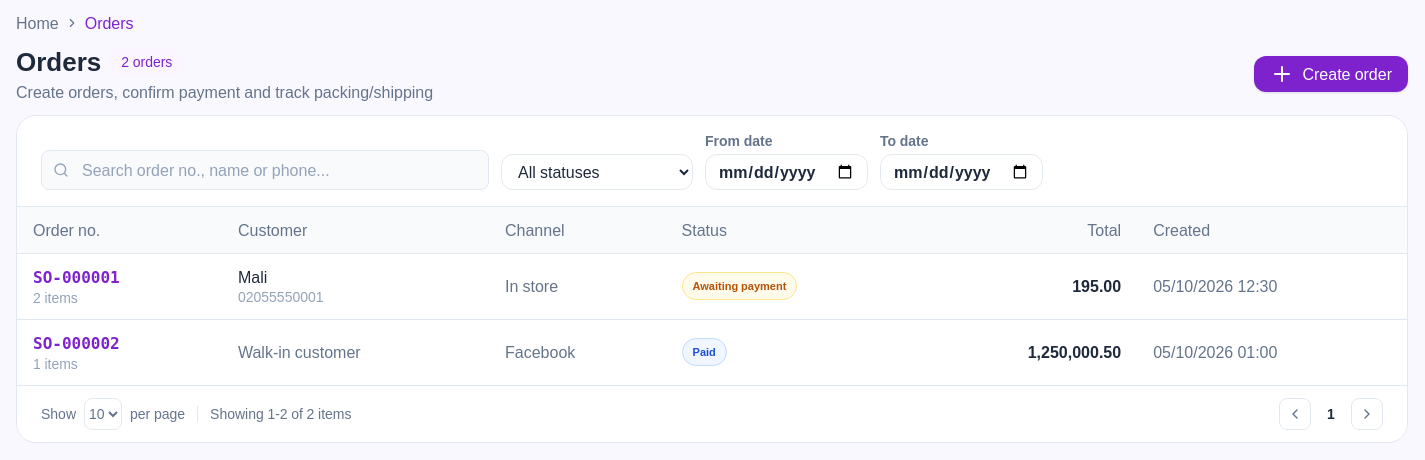
OrderList › ປີ 5 ຫຼັກ ຖືວ່າຊ່ວງວັນທີບໍ່ຖືກຕ້ອງ ແລະ ບໍ່ສົ່ງ request
The width and height of the screenshot is (1425, 460).
Check: the row with test id "row-order-o1" is shown, box 17,253 -> 1407,319
Type "12026-10-01" into the date field labelled "From date" at (786, 172), box 705,154 -> 868,190
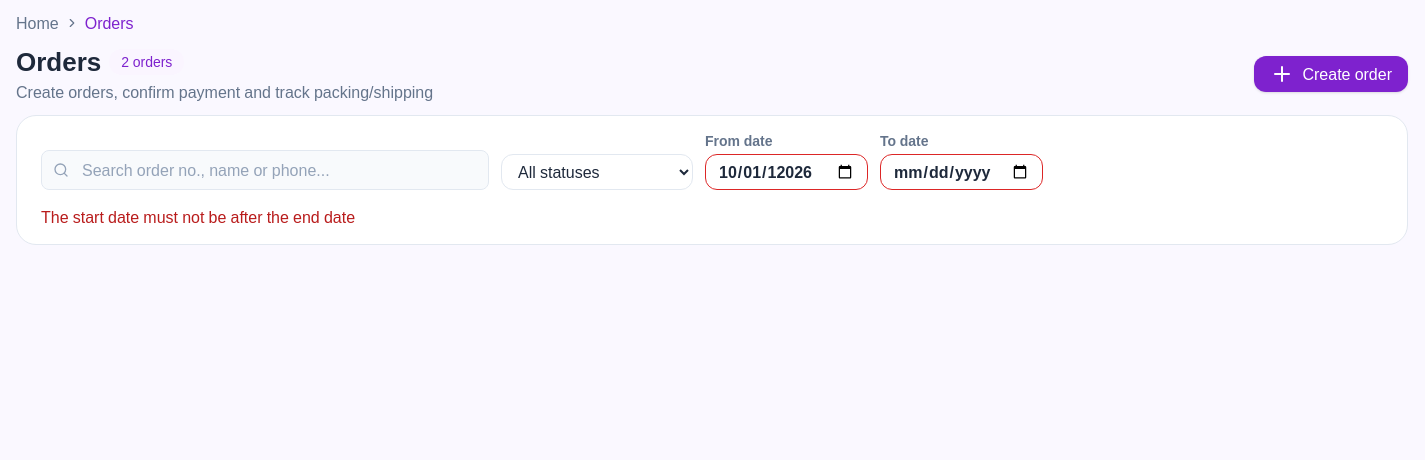
Check: the message "The start date must not be after the end date" is shown, box 41,204 -> 355,230
